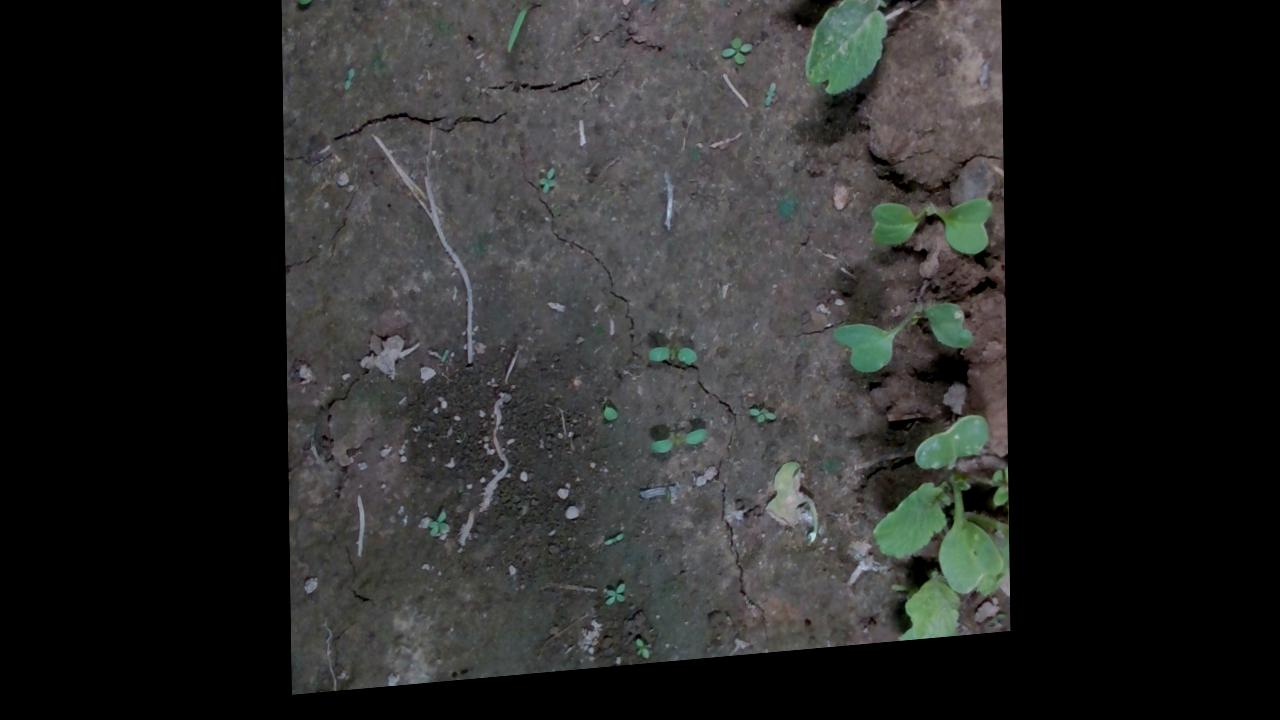weed: (647, 439, 708, 466), (645, 354, 698, 380), (720, 46, 754, 80), (425, 516, 451, 545), (747, 416, 778, 438), (539, 174, 559, 203), (602, 593, 625, 618), (632, 647, 651, 671), (297, 0, 336, 11), (763, 94, 778, 121)
